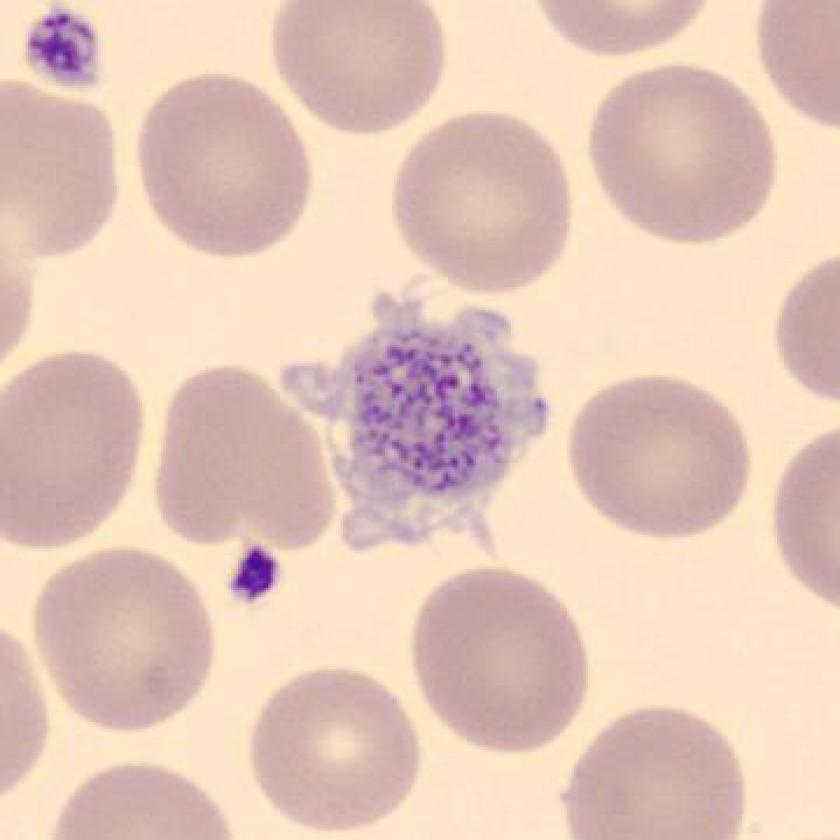platelets: (267, 274, 563, 575), (15, 6, 113, 94), (216, 529, 290, 624)
